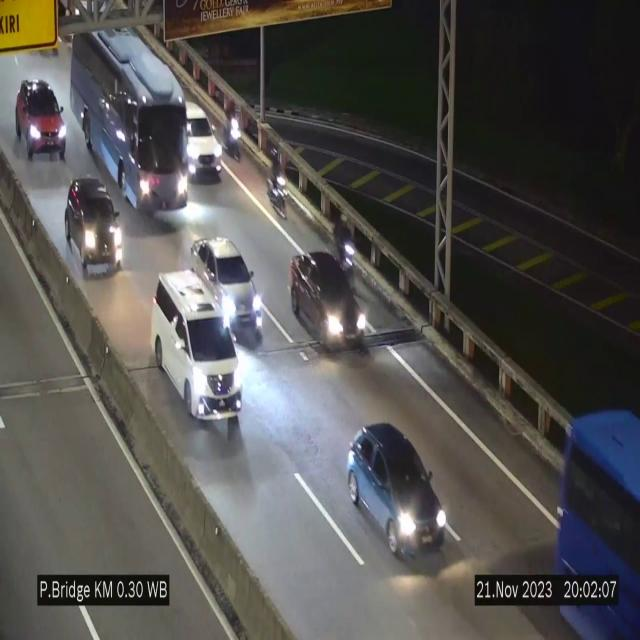Bus: (70, 26, 190, 235), (546, 385, 640, 640)
Car: (151, 269, 239, 423), (350, 423, 448, 558), (288, 252, 368, 355), (192, 236, 264, 345), (63, 174, 127, 278), (16, 74, 68, 164), (179, 102, 222, 180)
Motorcycle: (332, 210, 356, 274), (267, 147, 285, 222), (223, 100, 242, 160)
